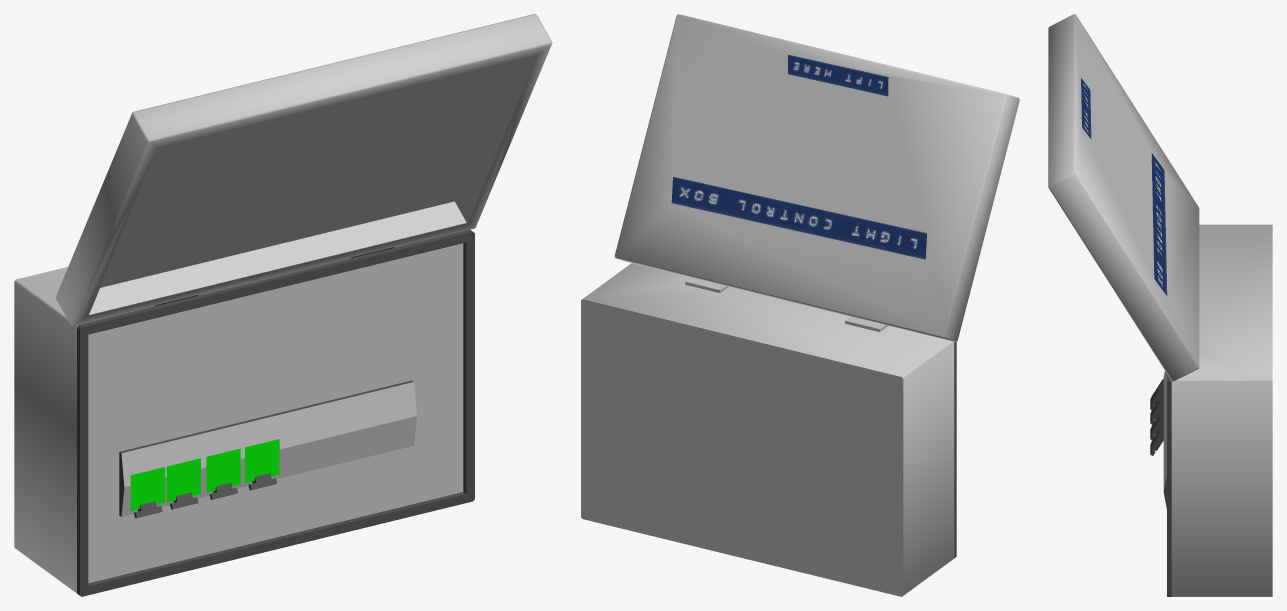
Rendered from light_switch4_lid.dae.
The picture shows the model from 3 angles, left to right: view 1: azimuth 30°, elevation 25°; view 2: azimuth 150°, elevation 25°; view 3: azimuth 270°, elevation 25°; orthographic projection. The views are drawn at different scales.
Parts seen in each view (by area): view 1: panel (×7), lid (×2), cursor3, cursor4, cursor1, cursor2; view 2: panel (×2), lid (×3); view 3: panel (×3), lid (×3).
Part boxes in pixels (bbox=[...]): panel (×7): bbox=[14, 229, 474, 596]; lid (×2): bbox=[55, 14, 552, 326]; cursor3: bbox=[206, 448, 240, 492]; cursor4: bbox=[245, 439, 279, 483]; cursor1: bbox=[130, 467, 164, 510]; cursor2: bbox=[166, 458, 200, 502]; panel (×2): bbox=[581, 263, 956, 596]; lid (×3): bbox=[614, 14, 1019, 341]; panel (×3): bbox=[1163, 224, 1272, 596]; lid (×3): bbox=[1048, 14, 1199, 381].
Size of the model in its own units: 9.29 by 5.51 by 11.56.
